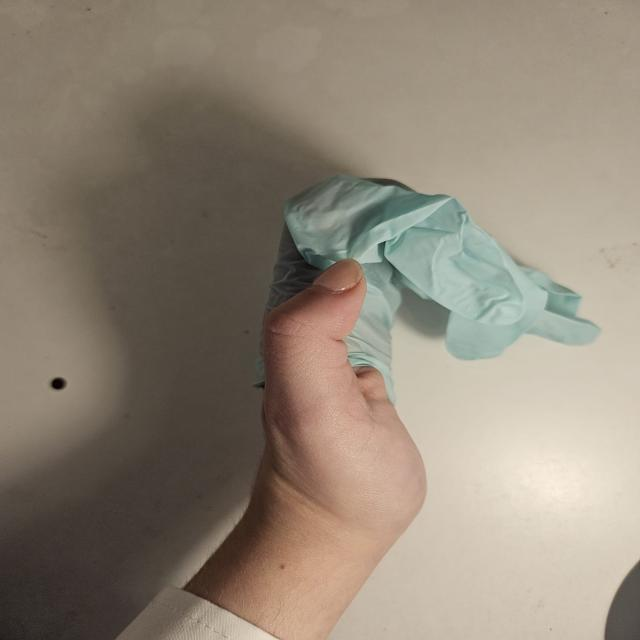glove_partial: (253, 171, 600, 525)
